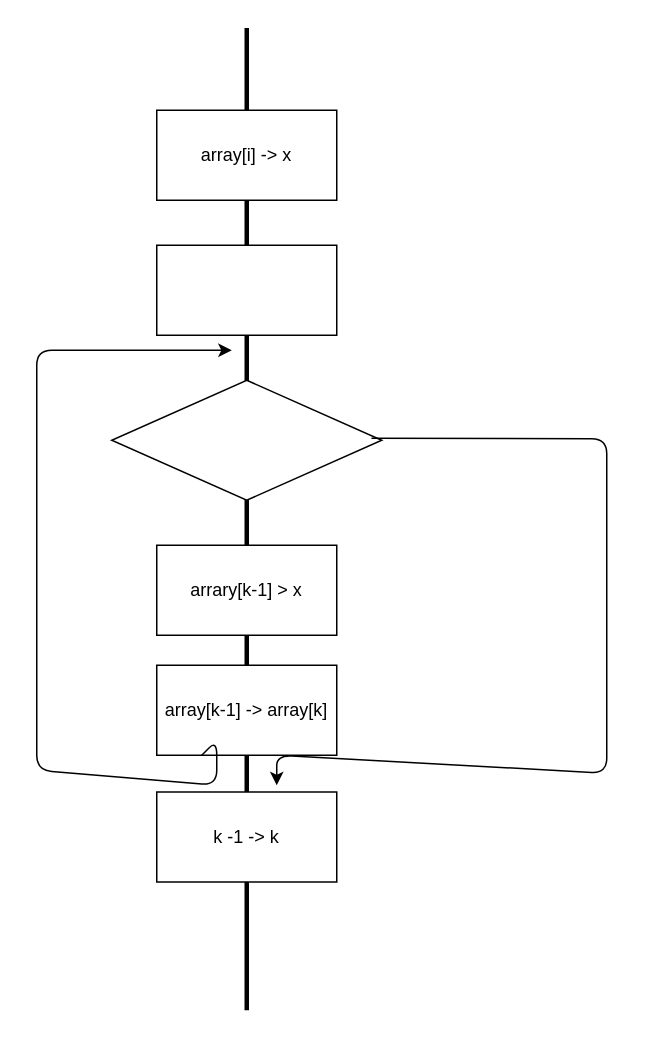
This 645x1040 diagram has some shape labels left out. The shapes that lost their labels are listed below. From the top down, each one's centre as x and y in pixels, then its label:
(246,289): i -> k
(246,439): k > 0
